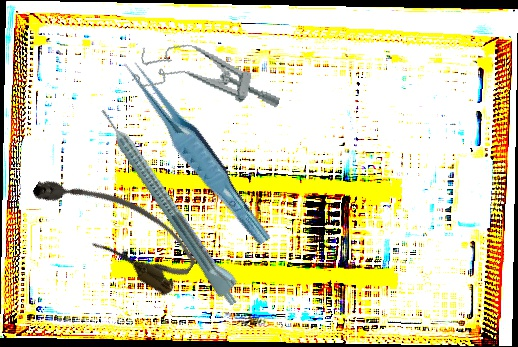Cannula: (24, 151, 205, 301)
Handpiece: (95, 99, 249, 310)
Speculum: (131, 34, 287, 118)
Tissue Forceps: (121, 46, 273, 256)
